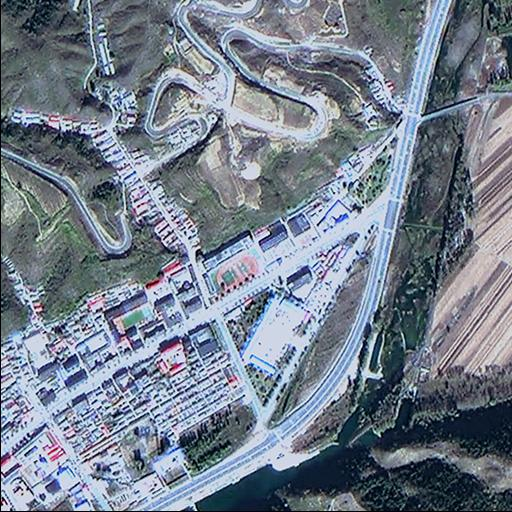school: (199, 210, 319, 311)
